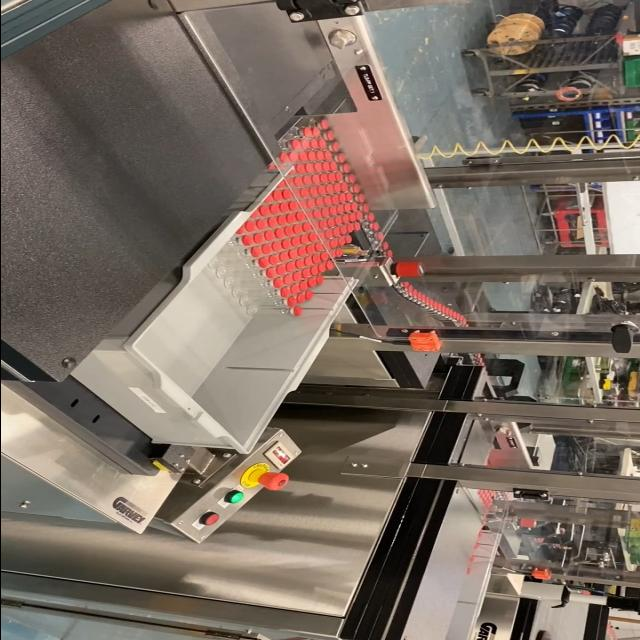vial: (252, 232, 262, 245), (258, 257, 268, 269), (276, 264, 286, 276), (268, 254, 278, 266), (305, 150, 315, 162), (259, 206, 269, 217), (251, 246, 260, 258), (269, 203, 277, 216), (241, 235, 251, 245), (232, 226, 242, 236), (294, 294, 304, 304), (301, 268, 311, 278), (288, 249, 298, 259), (278, 252, 288, 262), (307, 232, 317, 242), (267, 218, 277, 228), (256, 220, 266, 230), (272, 278, 281, 289), (266, 267, 274, 279), (307, 276, 315, 288), (282, 238, 290, 250), (292, 306, 301, 316), (286, 261, 295, 271), (244, 222, 253, 232), (262, 243, 270, 254), (272, 191, 280, 202), (297, 281, 305, 292), (284, 274, 291, 286), (281, 288, 289, 298), (316, 264, 324, 274), (292, 272, 300, 282), (315, 242, 323, 252), (297, 247, 305, 257), (292, 236, 300, 246), (272, 242, 280, 252), (293, 224, 301, 234), (284, 227, 292, 237), (274, 228, 282, 238), (286, 213, 294, 223), (278, 216, 286, 226), (288, 201, 296, 211), (279, 202, 287, 212), (282, 190, 290, 200), (344, 192, 352, 202), (306, 198, 314, 208), (300, 188, 308, 198), (292, 176, 300, 186), (316, 184, 324, 194), (324, 184, 332, 194), (326, 172, 334, 182), (302, 174, 310, 184), (292, 140, 300, 150), (301, 140, 309, 150), (298, 151, 306, 161), (324, 150, 332, 160), (328, 161, 336, 171), (304, 164, 312, 174), (302, 128, 310, 138), (317, 140, 325, 150), (311, 128, 319, 138), (320, 120, 328, 130), (326, 130, 334, 140), (332, 142, 340, 152), (288, 284, 298, 292), (286, 297, 294, 306), (296, 258, 302, 270), (366, 213, 374, 222), (312, 254, 319, 264), (300, 234, 307, 244), (262, 195, 272, 202), (326, 217, 333, 227), (315, 198, 322, 208), (321, 162, 328, 172), (310, 266, 318, 274), (276, 180, 284, 188), (328, 250, 336, 258), (334, 250, 342, 258), (328, 240, 336, 248), (343, 236, 351, 244), (312, 210, 320, 218), (289, 152, 297, 160), (341, 165, 350, 172), (305, 290, 311, 300), (320, 252, 326, 262), (304, 256, 310, 266), (308, 244, 314, 254), (304, 222, 310, 232), (266, 230, 272, 240), (296, 210, 302, 220), (347, 224, 353, 234), (340, 226, 346, 236), (333, 227, 339, 237), (326, 228, 332, 238), (336, 215, 342, 225), (342, 214, 348, 224), (354, 212, 360, 222), (321, 208, 327, 218), (310, 186, 316, 196), (342, 182, 348, 192), (312, 174, 318, 184), (280, 152, 286, 162), (314, 162, 320, 172), (310, 140, 316, 150), (348, 174, 354, 184), (362, 204, 368, 214), (316, 275, 322, 284), (333, 183, 339, 192), (296, 164, 302, 173), (316, 150, 322, 159), (337, 153, 343, 162), (321, 173, 326, 183), (413, 290, 418, 300), (326, 262, 332, 270), (250, 209, 256, 217), (338, 237, 344, 245), (354, 222, 360, 230), (319, 220, 325, 228), (328, 207, 334, 215), (343, 204, 349, 212), (331, 196, 337, 204), (338, 194, 344, 202), (336, 172, 342, 180), (382, 242, 388, 250), (376, 232, 382, 240), (372, 222, 378, 230), (447, 308, 453, 316), (434, 302, 440, 310), (349, 213, 354, 221), (351, 202, 356, 210), (324, 196, 329, 204), (354, 184, 358, 194), (357, 194, 362, 202), (417, 292, 421, 302), (408, 286, 413, 294), (386, 250, 392, 256), (402, 282, 408, 288), (455, 314, 461, 320), (451, 312, 457, 318), (336, 206, 341, 213), (443, 306, 447, 314), (440, 304, 444, 312), (430, 300, 434, 308), (428, 298, 432, 306), (420, 294, 424, 302), (424, 296, 428, 303), (479, 362, 484, 367), (461, 319, 465, 325), (459, 316, 463, 320), (463, 324, 467, 328), (478, 359, 482, 363), (476, 354, 479, 359)
